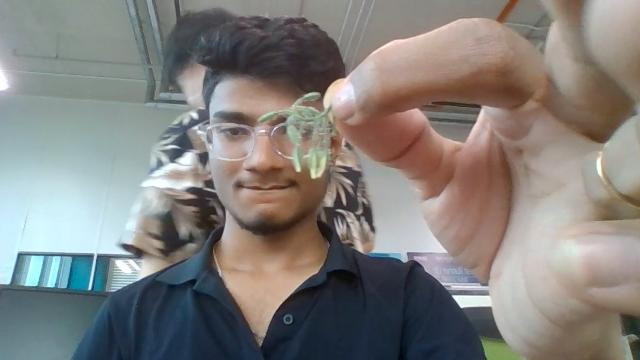Flower Bud: (287, 122, 302, 148), (291, 142, 303, 173), (314, 152, 327, 178), (297, 92, 322, 104)
